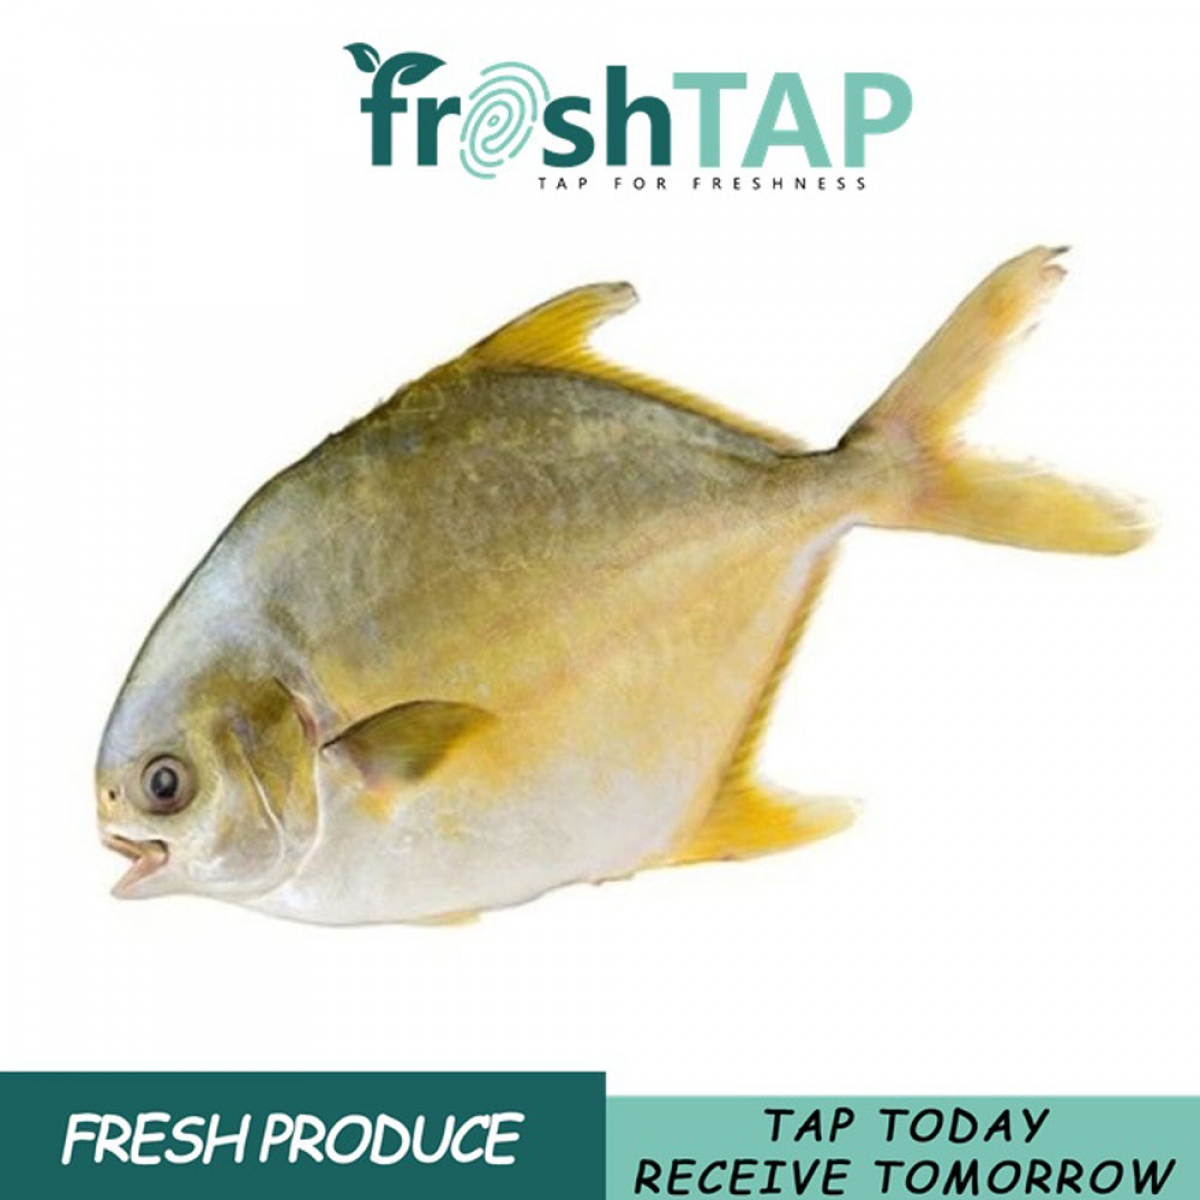Ikan Bawal: (63, 215, 1169, 962)
